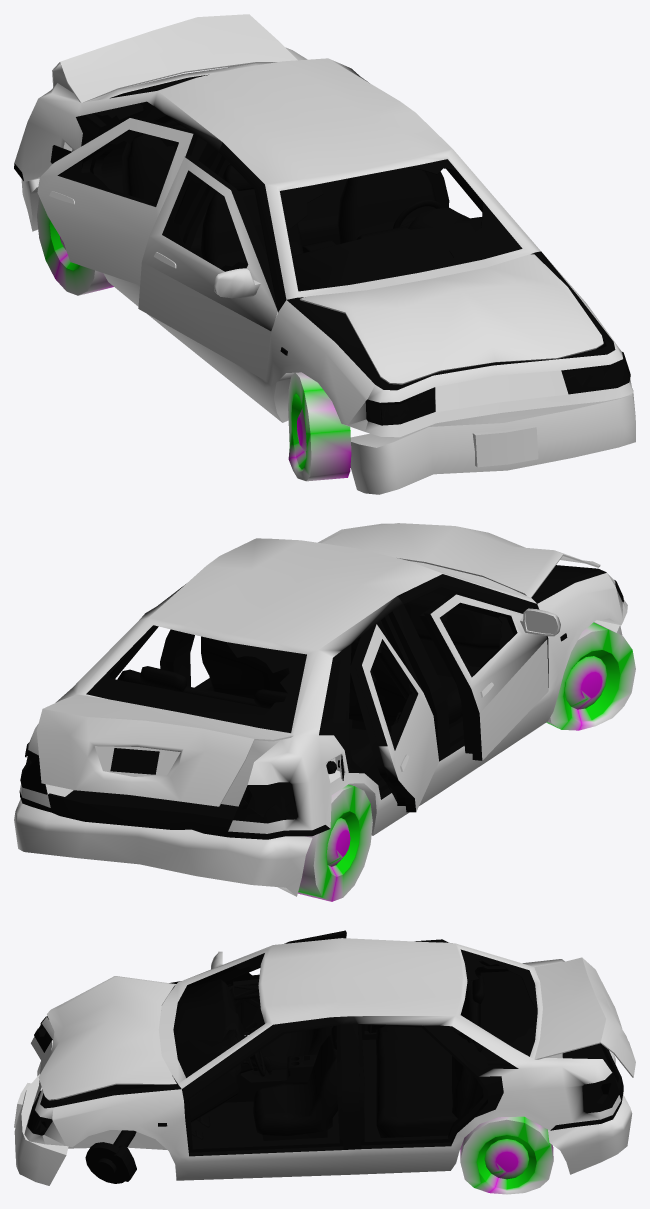
Rendered from Wrecked_Car_04_LOD.fbx.
The picture shows the model from 3 angles, top to bottom: view 1: azimuth 30°, elevation 25°; view 2: azimuth 150°, elevation 25°; view 3: azimuth 270°, elevation 25°; orthographic projection. The views are drawn at different scales.
Parts seen in each view (by area): view 1: Wrecked_Car_1; view 2: Wrecked_Car_1; view 3: Wrecked_Car_1.
Part boxes in pixels (left/top/right/bottom): Wrecked_Car_1: left=14, top=14, right=635, bottom=494; Wrecked_Car_1: left=14, top=523, right=635, bottom=901; Wrecked_Car_1: left=14, top=930, right=635, bottom=1194.
Size of the model in its own units: 226 by 143 by 478.
